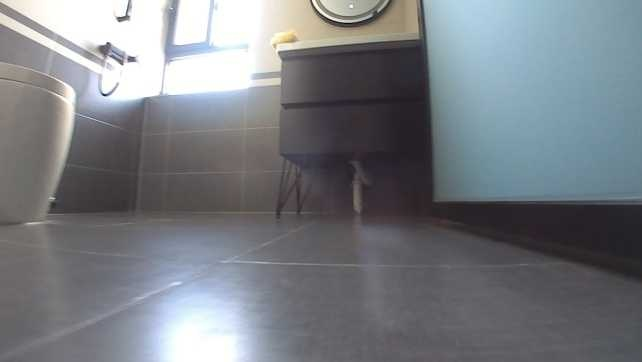toilet: (1, 60, 77, 224)
washstand: (272, 30, 428, 215)
